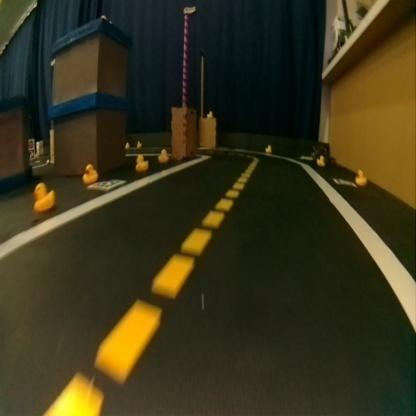Duckie: (34, 182, 54, 210), (134, 154, 148, 168), (82, 164, 94, 180), (356, 170, 366, 184), (158, 151, 168, 162), (316, 154, 324, 166), (207, 110, 212, 119), (264, 146, 270, 152)
QR code: (89, 180, 123, 190), (332, 178, 353, 186)
